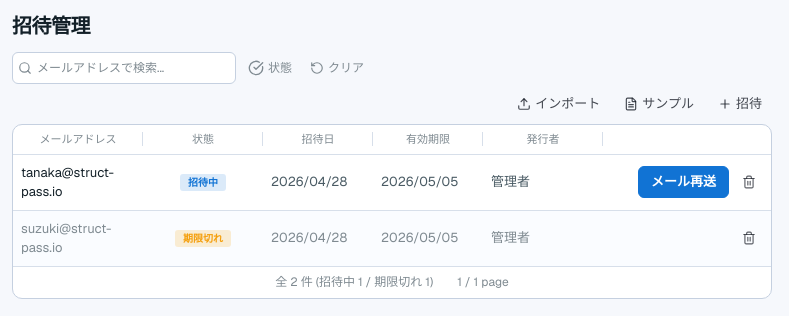
Test: InvitesScreen › 状態フィルタ「招待中」で PENDING のみ残す
mdl-0026: 絞り込みは native select → FilterChipSelect（チップ→listbox）へ移行。
What coordinates should you click on to do the following:
click the button with aria-label "状態で絞り込み"
I would click on:
 (270, 68)
Its box is [242, 53, 298, 83].
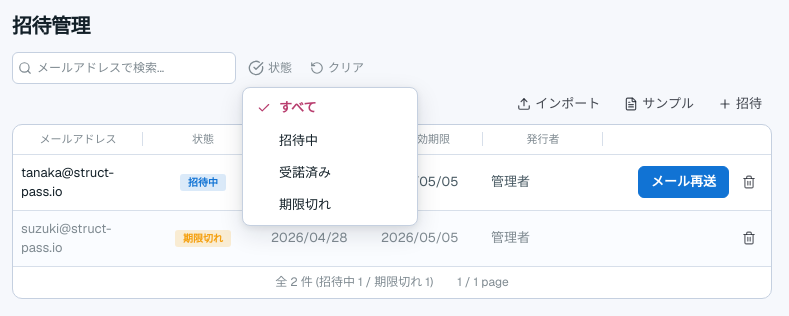
What coordinates should you click on to do the following:
click the option "招待中"
I would click on:
 (298, 140)
Its box is [279, 132, 318, 149].
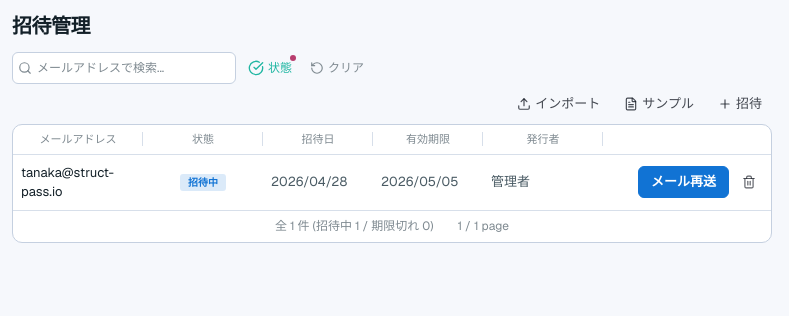
Expected: the text "tanaka@struct-pass.io" is shown, [21, 164, 114, 200]
Now the text "suzuki@struct-pass.io" is gone
